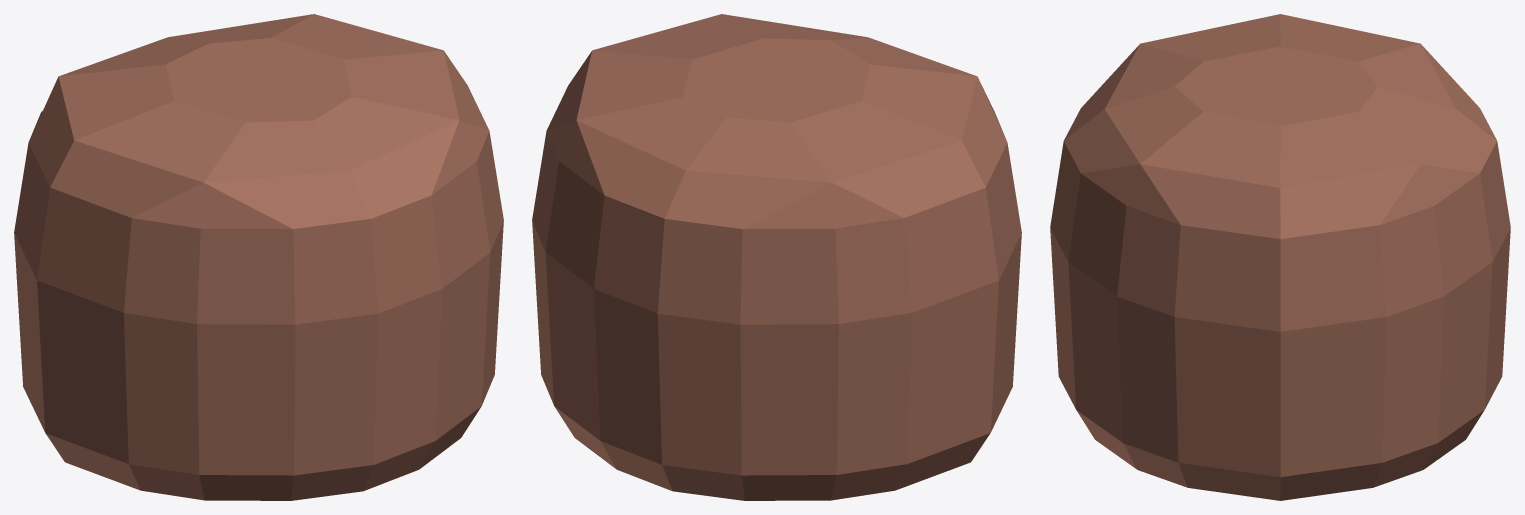
File: Pouf.fbx
The picture shows the model from 3 angles, left to right: view 1: azimuth 30°, elevation 25°; view 2: azimuth 150°, elevation 25°; view 3: azimuth 270°, elevation 25°; orthographic projection. The views are drawn at different scales.
Visible parts, largest first — view 1: Pouf; view 2: Pouf; view 3: Pouf.
Part boxes in pixels (bbox=[...]): Pouf: bbox=[14, 14, 503, 500]; Pouf: bbox=[532, 14, 1021, 500]; Pouf: bbox=[1050, 14, 1510, 500].
Size of the model in its own units: 34.18 by 24.61 by 31.82.
